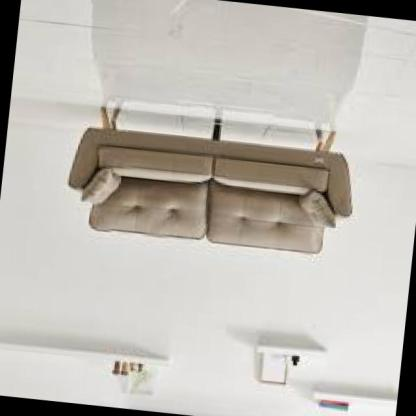Sofa: (43, 88, 386, 278)
